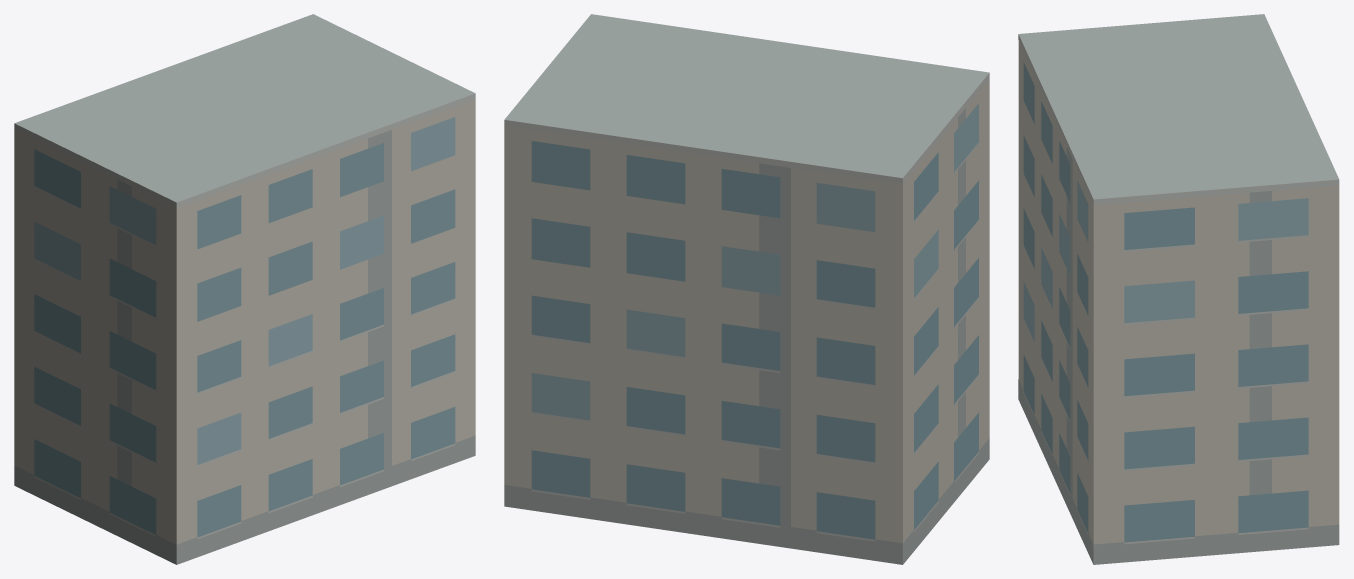
File: residential-7550fb4c-2e65-45c3-8f5a-f3e20f4e4790.glb
3 renders of one model, left to right at view 1: azimuth 30°, elevation 25°; view 2: azimuth 150°, elevation 25°; view 3: azimuth 270°, elevation 25°, orthographic. The views are drawn at different scales.
Visible parts, largest first — view 1: residential-7550fb4c-2e65-45c3-8f5a-f3e20f4e4790.tmp; view 2: residential-7550fb4c-2e65-45c3-8f5a-f3e20f4e4790.tmp; view 3: residential-7550fb4c-2e65-45c3-8f5a-f3e20f4e4790.tmp.
Part boxes in pixels (x1,y1,x2,y2): residential-7550fb4c-2e65-45c3-8f5a-f3e20f4e4790.tmp: [14, 14, 475, 564]; residential-7550fb4c-2e65-45c3-8f5a-f3e20f4e4790.tmp: [504, 14, 989, 564]; residential-7550fb4c-2e65-45c3-8f5a-f3e20f4e4790.tmp: [1018, 14, 1339, 564].
Bounding box in the file's own units: 16.6 × 15.25 × 12.15.
